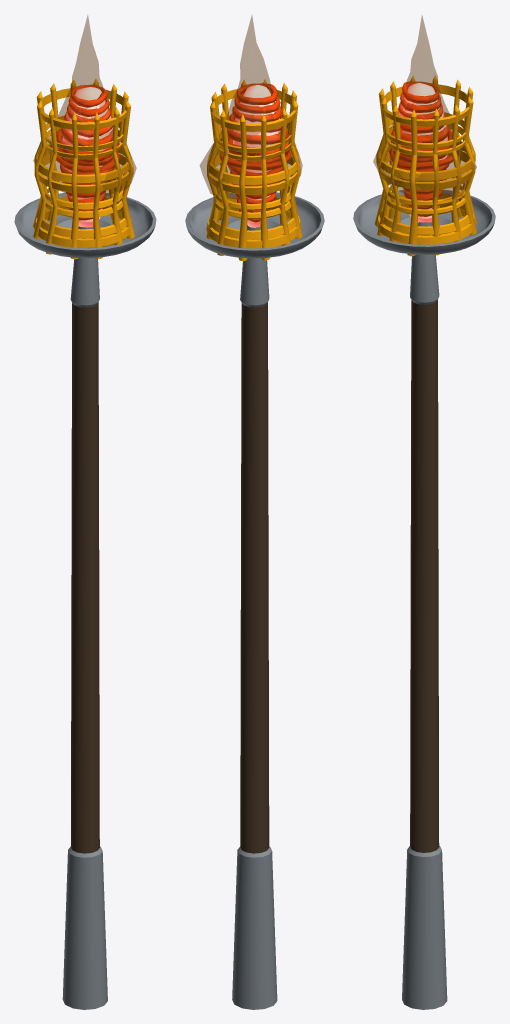
Rendered from torch.glb.
3 views of the same model, side by side, from view 1: azimuth 90°, elevation 25°; view 2: azimuth 150°, elevation 25°; view 3: azimuth 270°, elevation 25° (orthographic).
Visible parts, largest first — view 1: torche_metallic_clean.001, torche_fire_flame.001; view 2: torche_metallic_clean.001, torche_fire_flame.001; view 3: torche_metallic_clean.001, torche_fire_flame.001.
Boxes of the visible parts, box(x1,y1,x2,y2) form: torche_metallic_clean.001: box(14, 79, 156, 1009); torche_fire_flame.001: box(33, 15, 136, 198); torche_metallic_clean.001: box(185, 79, 324, 1009); torche_fire_flame.001: box(200, 16, 302, 199); torche_metallic_clean.001: box(353, 75, 495, 1009); torche_fire_flame.001: box(373, 16, 476, 199).
Size of the model in its own units: 0.3871 by 3.04 by 0.3969.
